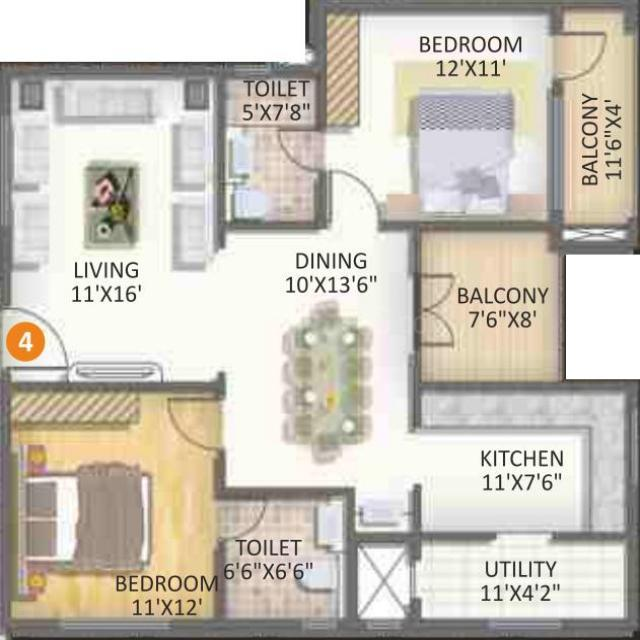Balcony-Sitout: (407, 221, 568, 388), (557, 0, 640, 231)
Bedroom: (0, 375, 226, 632), (315, 3, 563, 232)
Dining: (278, 297, 379, 463)
Kitchen: (410, 379, 640, 538)
Living: (1, 62, 225, 392)
Toilet: (219, 486, 359, 630), (219, 65, 323, 233)
Utility: (407, 530, 640, 638)
